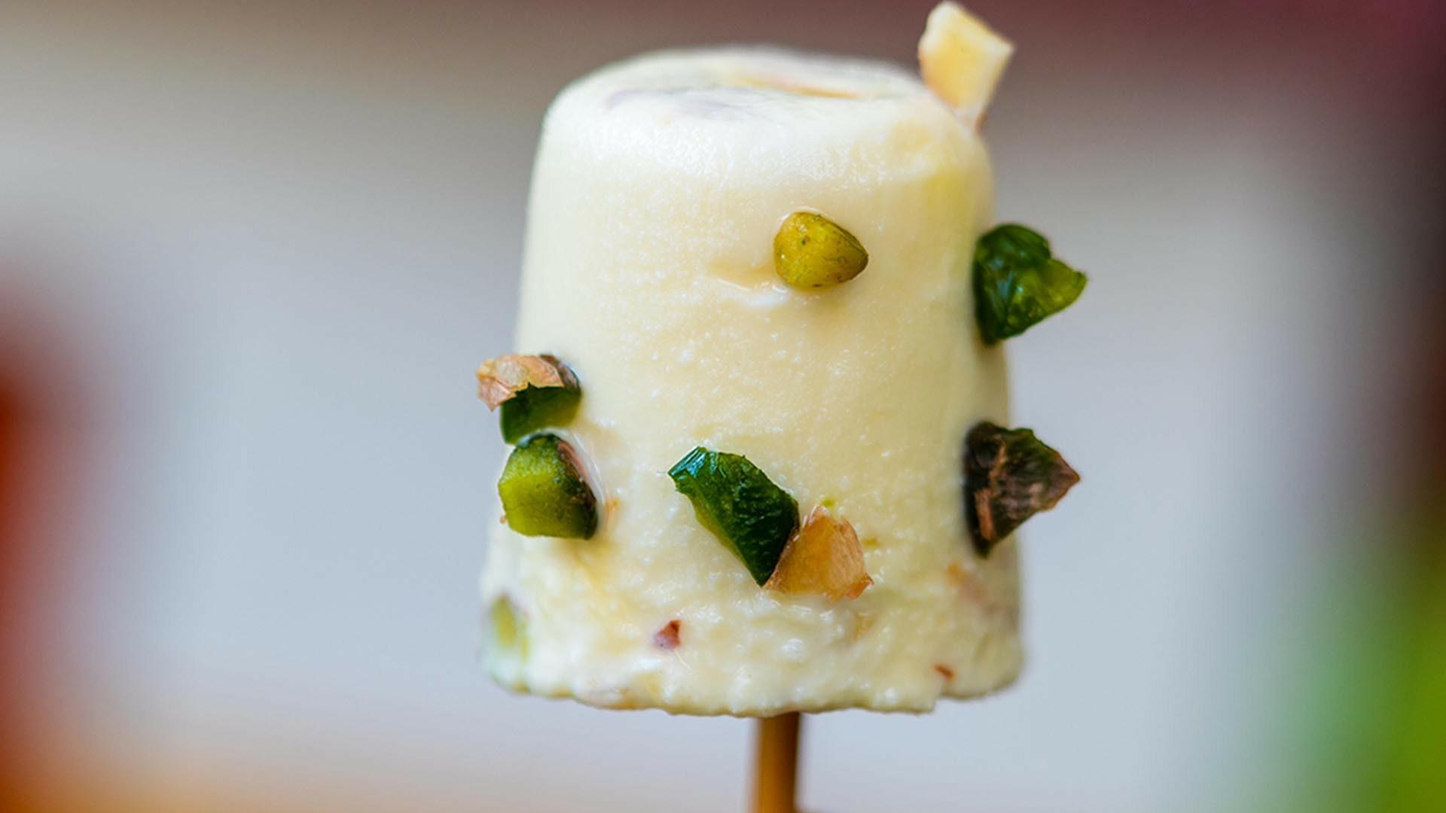Kulfi: (479, 47, 1028, 713)
